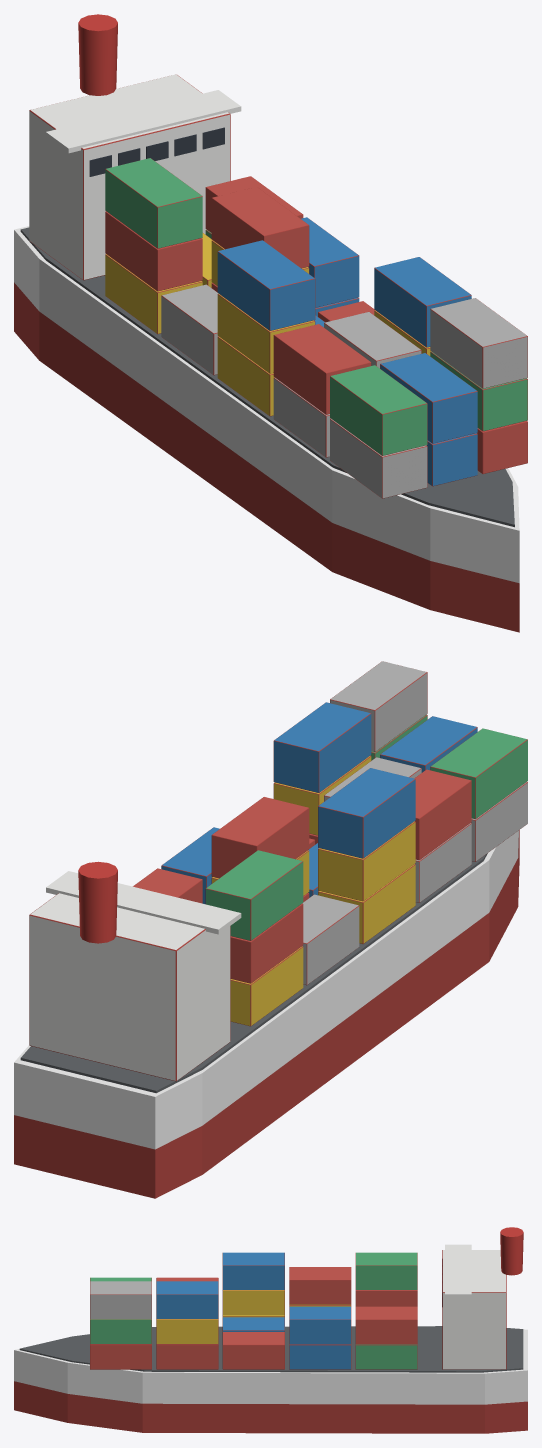
File: cargo_ship.gltf
3 renders of one model, top to bottom at view 1: azimuth 30°, elevation 25°; view 2: azimuth 150°, elevation 25°; view 3: azimuth 270°, elevation 25°, orthographic. The views are drawn at different scales.
Visible parts, largest first — view 1: cargo_ship; view 2: cargo_ship; view 3: cargo_ship.
Boxes of the visible parts, left/top/right/bottom form: cargo_ship: left=14, top=14, right=527, bottom=632; cargo_ship: left=14, top=661, right=527, bottom=1198; cargo_ship: left=14, top=1227, right=527, bottom=1433.
Bounding box in the file's own units: 2.2 × 3.67 × 9.6.
